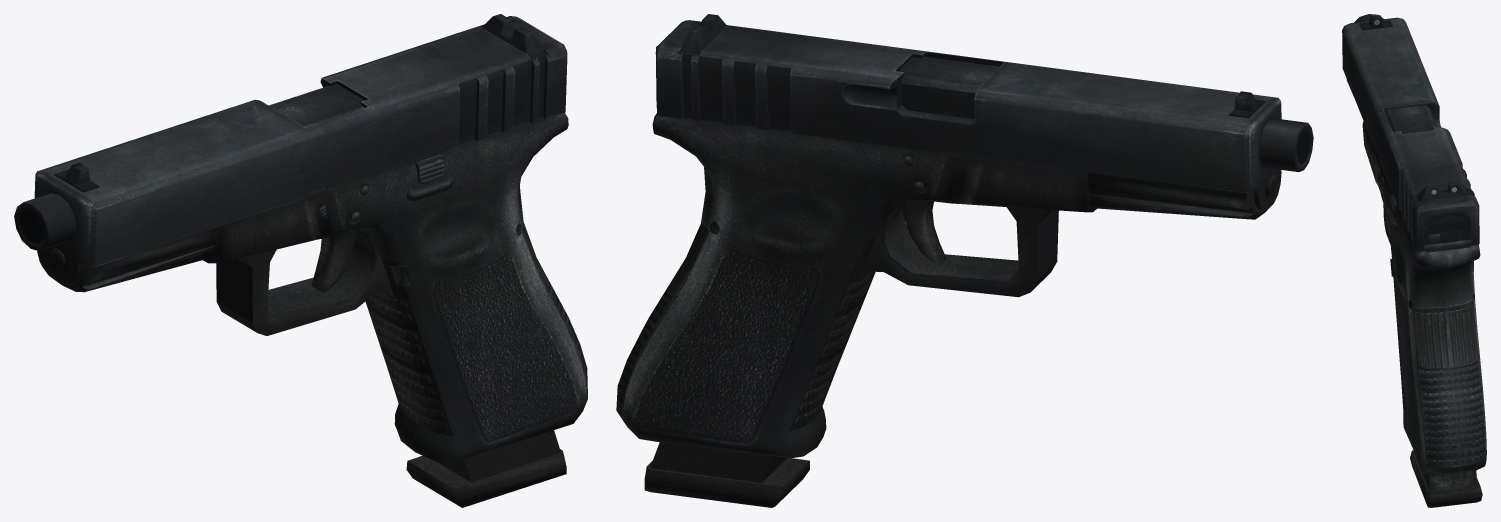
Rendered from pistol.glb.
The picture shows the model from 3 angles, left to right: view 1: azimuth 30°, elevation 25°; view 2: azimuth 150°, elevation 25°; view 3: azimuth 270°, elevation 25°; orthographic projection. The views are drawn at different scales.
Parts seen in each view (by area): view 1: Object_4, Object_6, Object_12, Object_8; view 2: Object_4, Object_6, Object_12, Object_8; view 3: Object_4, Object_6, Object_12, Object_8.
Boxes of the visible parts, x1,y1,x2,y2 form: Object_4: [37, 113, 587, 462]; Object_6: [34, 14, 567, 283]; Object_12: [406, 430, 566, 507]; Object_8: [14, 84, 364, 251]; Object_4: [616, 113, 1276, 458]; Object_6: [655, 14, 1281, 210]; Object_12: [644, 442, 809, 507]; Object_8: [898, 57, 1313, 171]; Object_4: [1346, 79, 1486, 475]; Object_6: [1342, 15, 1479, 251]; Object_12: [1410, 450, 1482, 507]; Object_8: [1354, 14, 1436, 133].
Size of the model in its own units: 0.1931 by 0.1411 by 0.0583.
Materials: 5 (5 with a texture image).
